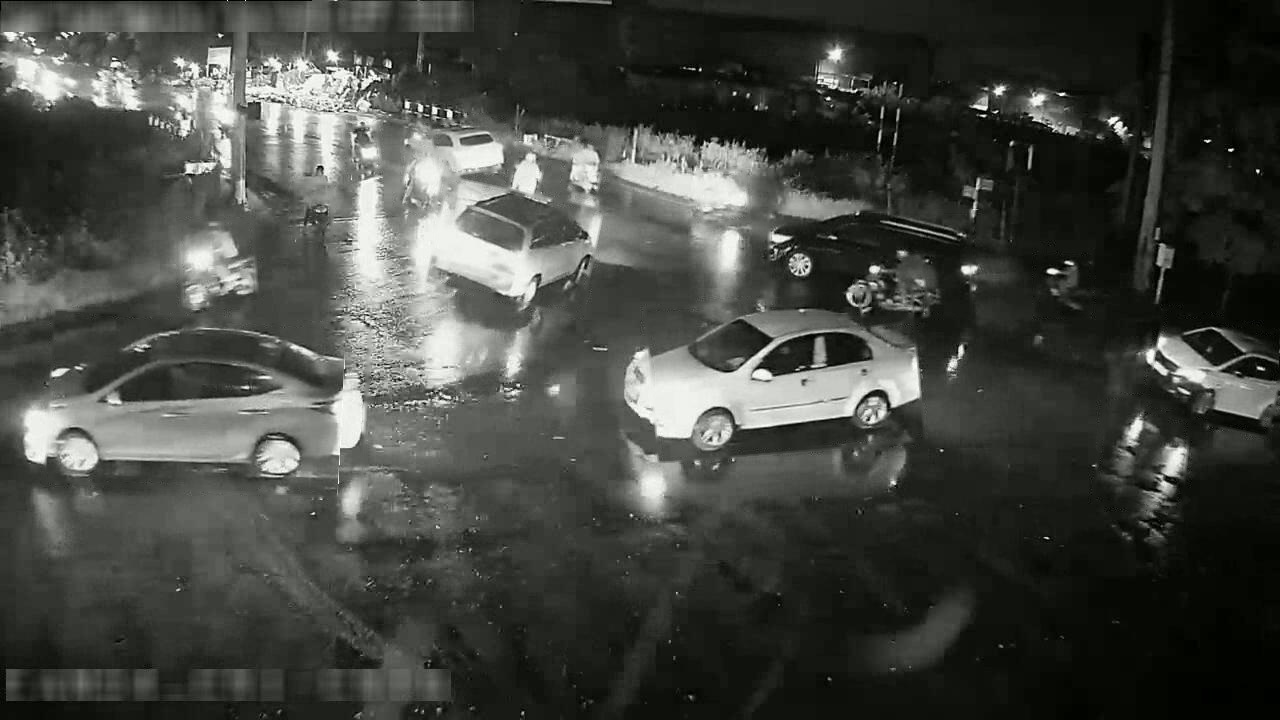Car: (624, 308, 919, 453), (22, 361, 365, 478), (49, 326, 344, 396), (432, 190, 594, 311), (766, 212, 976, 278), (1146, 325, 1279, 426), (845, 250, 976, 319), (181, 223, 257, 311), (428, 129, 504, 176), (1259, 391, 1279, 463), (352, 123, 379, 165)
Motorcyclist: (1095, 404, 1190, 510), (1042, 256, 1091, 312), (696, 173, 748, 219), (402, 154, 441, 208), (301, 181, 332, 241), (569, 138, 601, 194), (511, 151, 541, 197)
